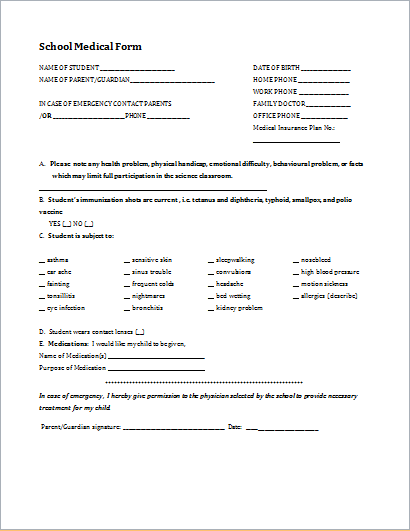textline: (37, 184, 272, 194), (107, 364, 208, 376), (105, 351, 209, 362), (243, 423, 326, 435), (119, 425, 227, 434), (250, 137, 345, 147), (130, 78, 216, 86), (51, 112, 127, 120), (298, 114, 354, 122), (100, 68, 178, 73), (300, 66, 354, 73), (298, 91, 351, 98), (304, 103, 354, 110), (144, 113, 194, 120), (295, 79, 352, 85)
